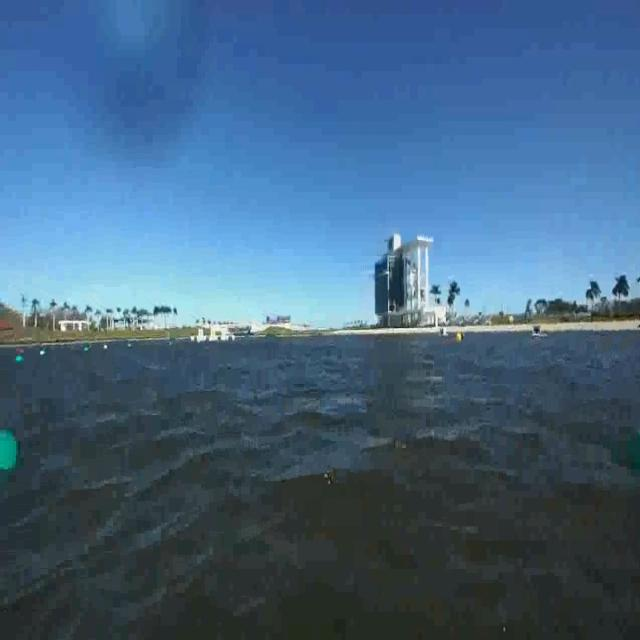green-buoy: (0, 432, 19, 473), (629, 423, 640, 473), (15, 359, 26, 366)
yellow-buoy: (456, 330, 464, 346)
